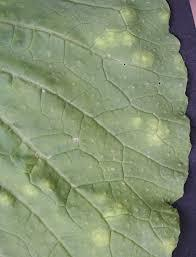Bok-Choy-Diseased: (0, 0, 182, 257)
